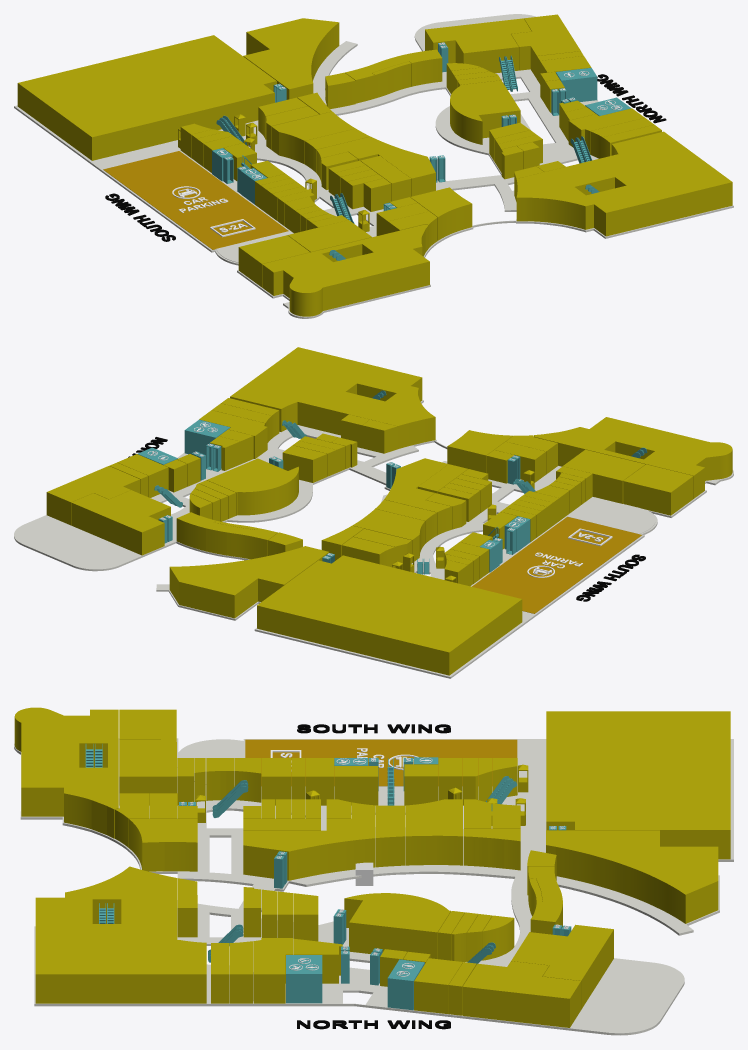
The model's file is floor-2.glb.
3 views of the same model, one above another, from view 1: azimuth 30°, elevation 25°; view 2: azimuth 150°, elevation 25°; view 3: azimuth 270°, elevation 25° (orthographic). The views are drawn at different scales.
Parts seen in each view (by area): view 1: Second floor; view 2: Second floor; view 3: Second floor.
Part boxes in pixels (x1,y1,x2,y2): Second floor: (14,14,733,318); Second floor: (14,347,733,678); Second floor: (14,707,733,1035).
Bounding box in the file's own units: 83.01 × 5.77 × 81.68.
